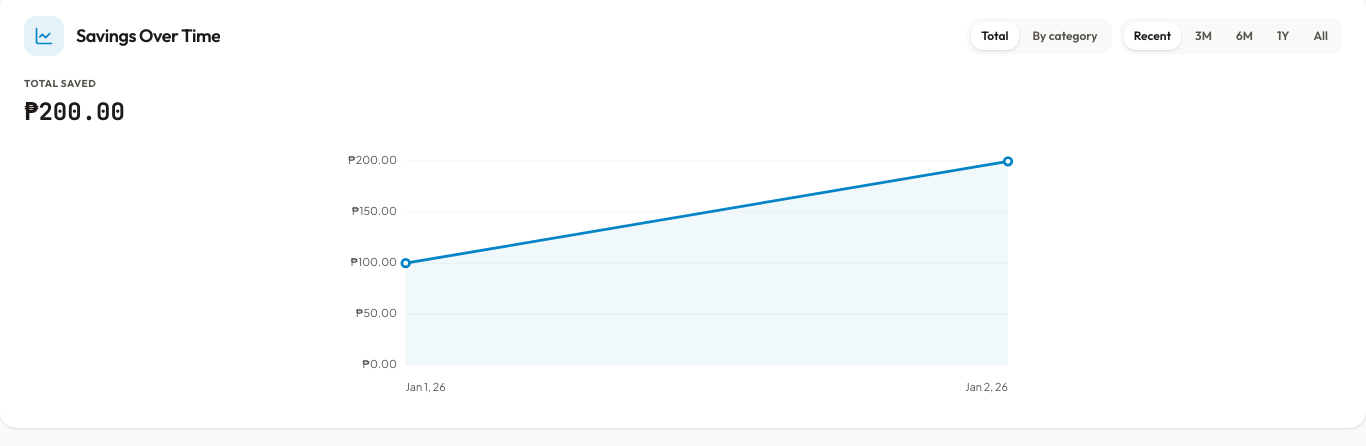
Test case: SavingsGraph › fetches view=total initially and re-fetches view=byCategory with one line per category on toggle (Req 6.11, 6.12)
Expected: the text "₱200.00" is shown, [24, 96, 125, 128]
# Switch to the by-category view.
Click the button with test id "savings-view-byCategory" at [1065, 36], box [1022, 22, 1108, 50]
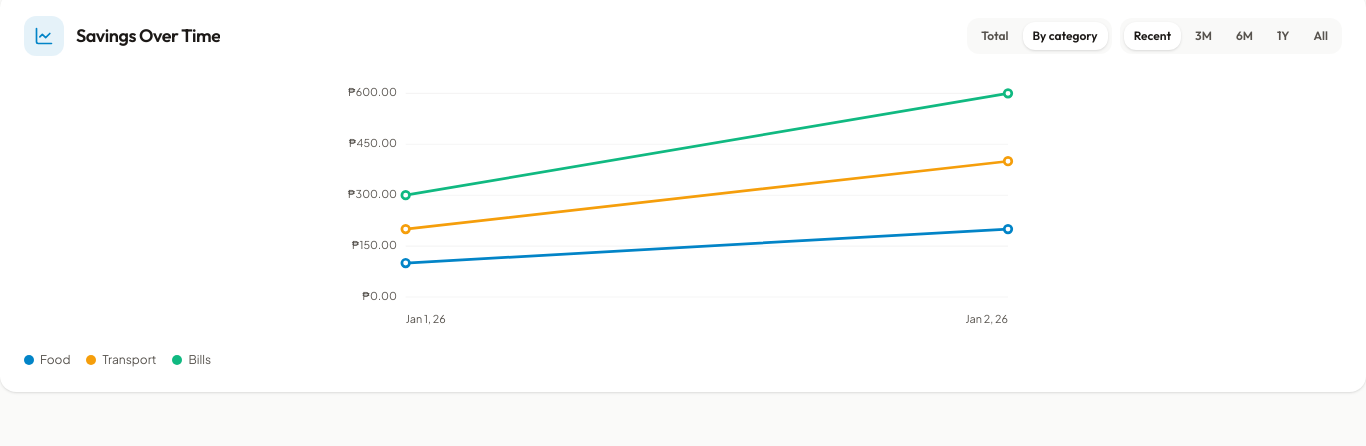
Now the text "Food" is shown, box [40, 352, 70, 368]
Now the text "Transport" is shown, box [102, 352, 156, 368]
Now the text "Bills" is shown, box [188, 352, 211, 368]
